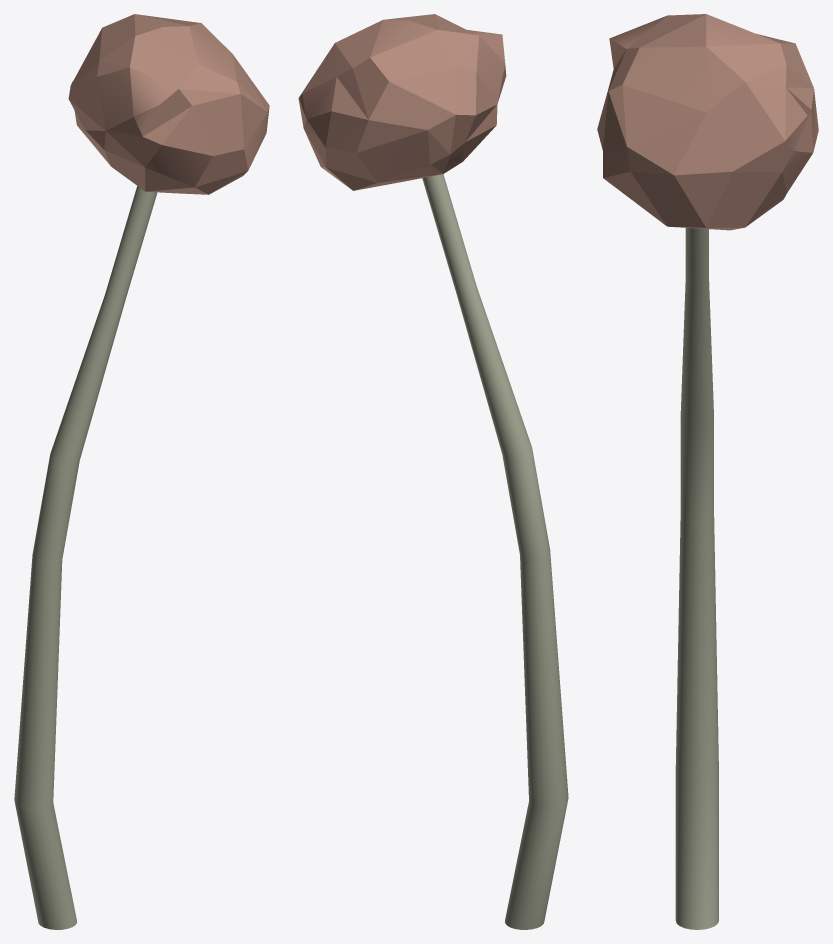
Rendered from spore1.fbx.
3 views of the same model, side by side, from view 1: azimuth 30°, elevation 25°; view 2: azimuth 150°, elevation 25°; view 3: azimuth 270°, elevation 25° (orthographic). The views are drawn at different scales.
Parts seen in each view (by area): view 1: pSolid80, pCylinder1; view 2: pSolid80, pCylinder1; view 3: pSolid80, pCylinder1.
Part boxes in pixels (x1,y1,x2,y2): pSolid80: [68, 14, 269, 194]; pCylinder1: [14, 186, 157, 929]; pSolid80: [298, 14, 506, 190]; pCylinder1: [422, 174, 568, 929]; pSolid80: [597, 14, 818, 230]; pCylinder1: [675, 228, 718, 929].
Size of the model in its own units: 1.97 by 6.73 by 1.42.
